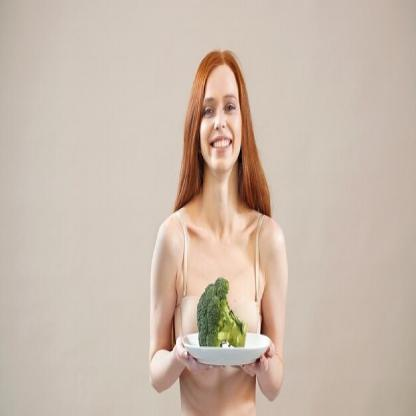broccoli: (196, 276, 248, 346)
